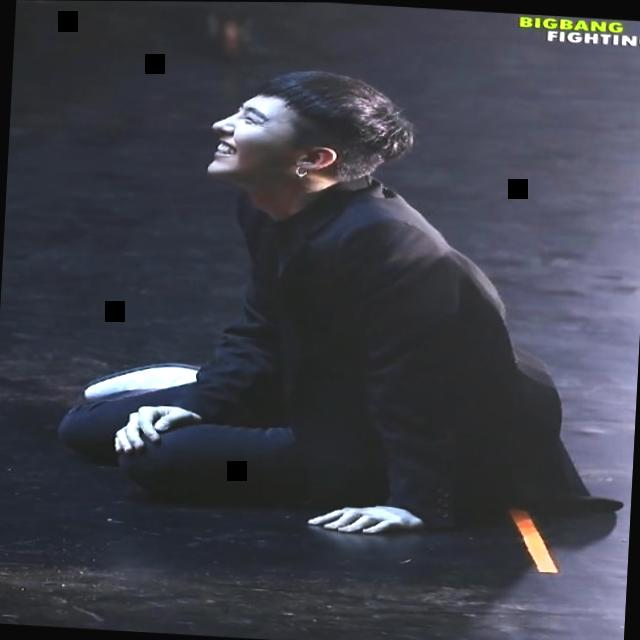Fall-Detected: (25, 35, 638, 559)
